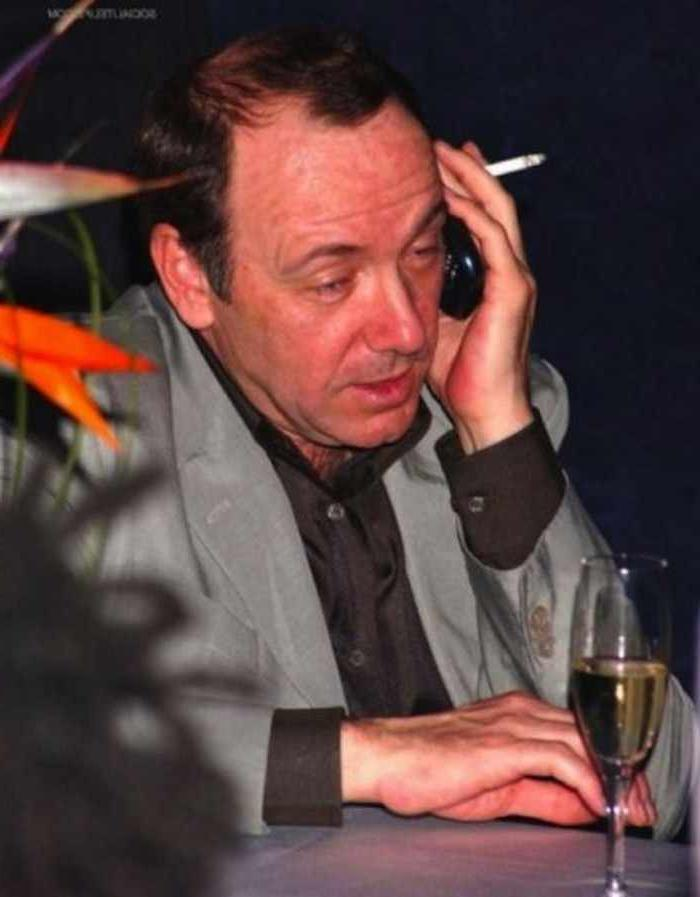Drunk: (243, 128, 450, 444)
